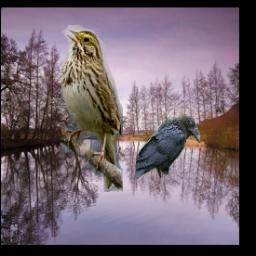Crow: (137, 112, 201, 179)
Sparrow: (61, 25, 123, 192)
